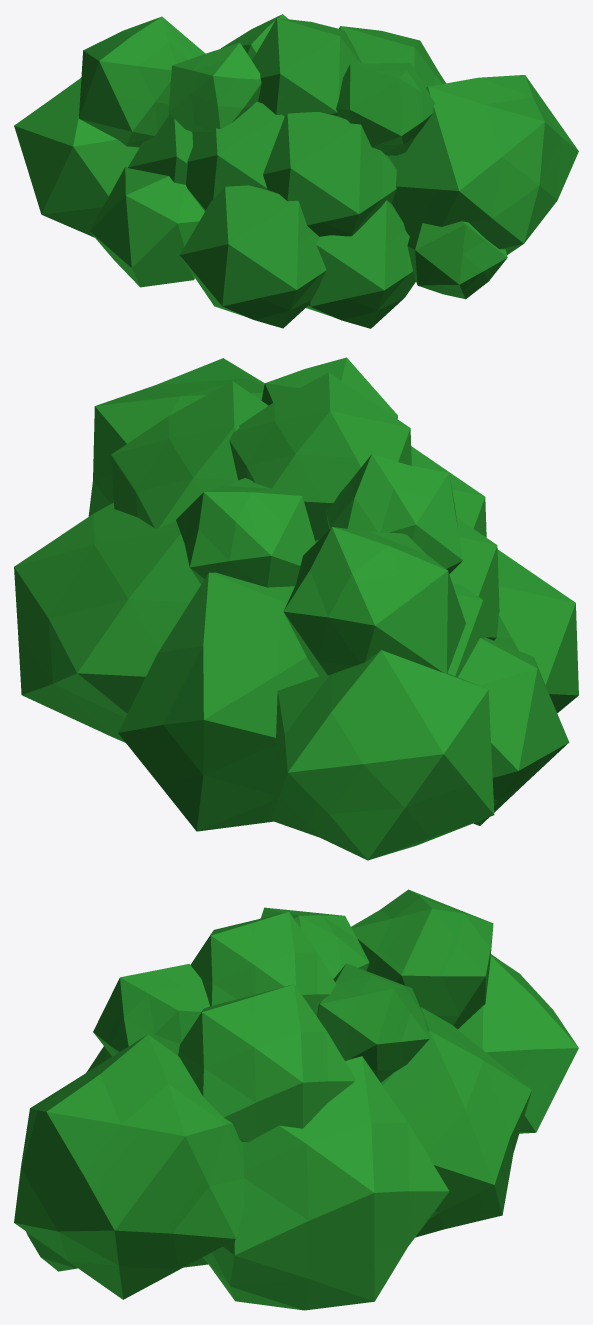
File: bush2.fbx
3 views of the same model, one above another, from view 1: azimuth 30°, elevation 25°; view 2: azimuth 150°, elevation 25°; view 3: azimuth 270°, elevation 25° (orthographic). The views are drawn at different scales.
Visible parts, largest first — view 1: Icosphere.010; view 2: Icosphere.010; view 3: Icosphere.010.
Boxes of the visible parts, bbox=[...] form: Icosphere.010: bbox=[14, 14, 578, 328]; Icosphere.010: bbox=[14, 357, 578, 860]; Icosphere.010: bbox=[14, 889, 578, 1310].
Bounding box in the file's own units: 333 × 208 × 317.
